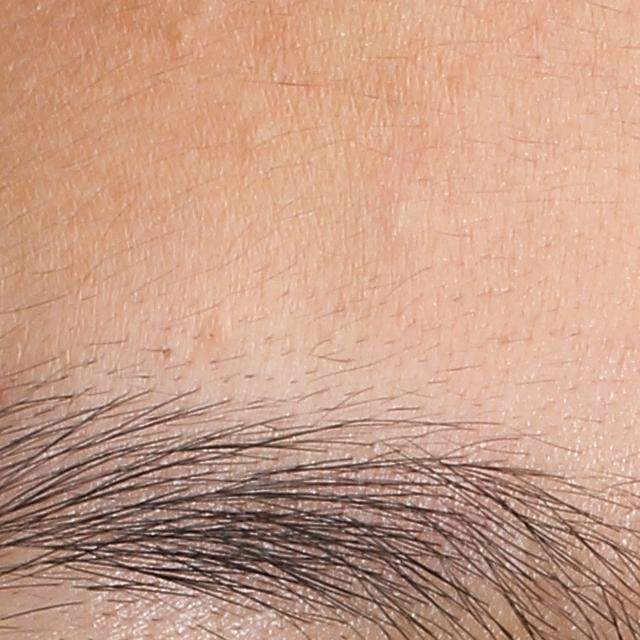comedo: (232, 115, 281, 152), (382, 205, 424, 247), (165, 16, 200, 53)
